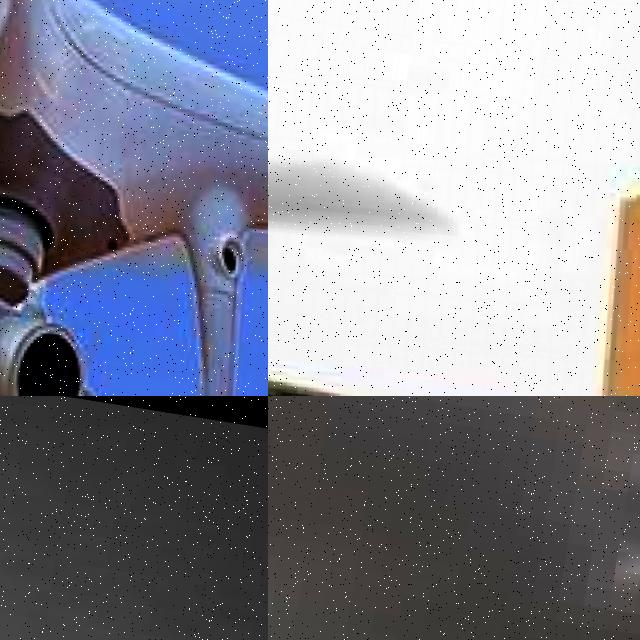drone: (268, 36, 640, 396), (0, 0, 268, 396)
